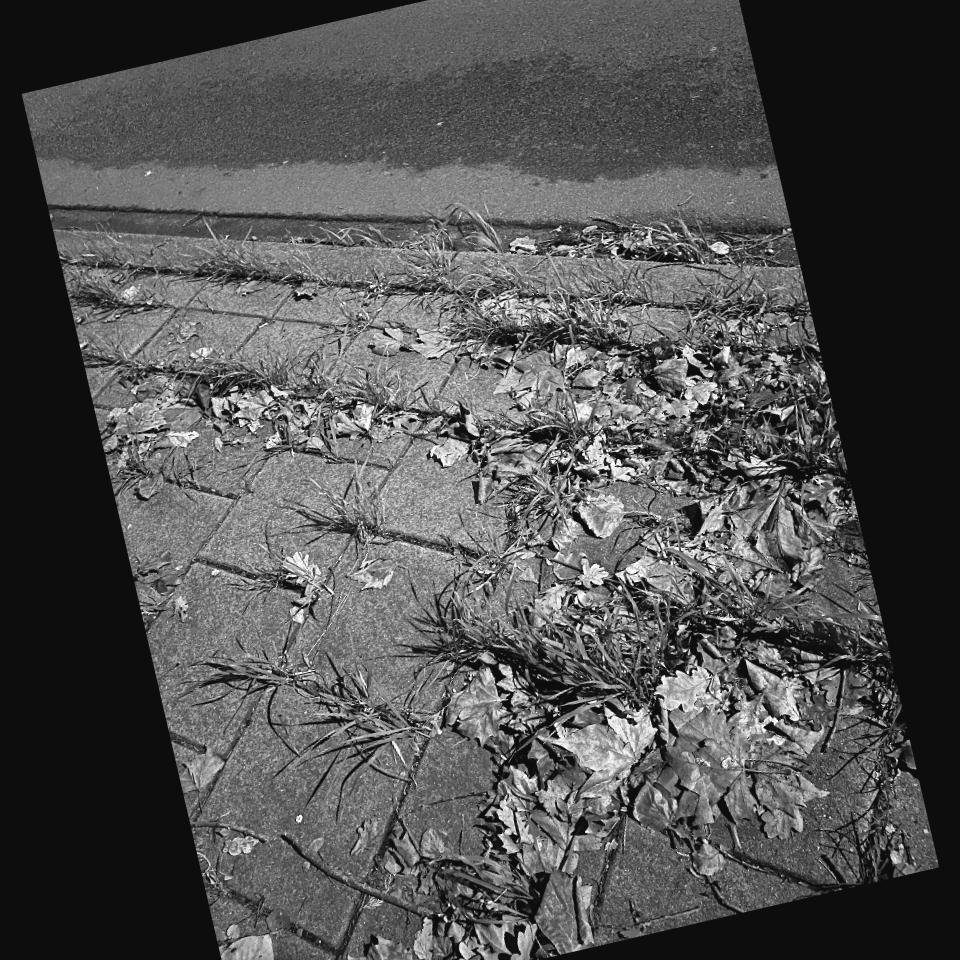weed: (427, 545, 896, 731), (394, 213, 653, 348), (76, 321, 407, 418), (229, 647, 429, 772), (855, 622, 906, 884), (742, 390, 853, 500), (510, 399, 584, 531), (167, 239, 297, 289), (322, 479, 379, 543), (694, 277, 769, 325), (657, 215, 700, 271)
